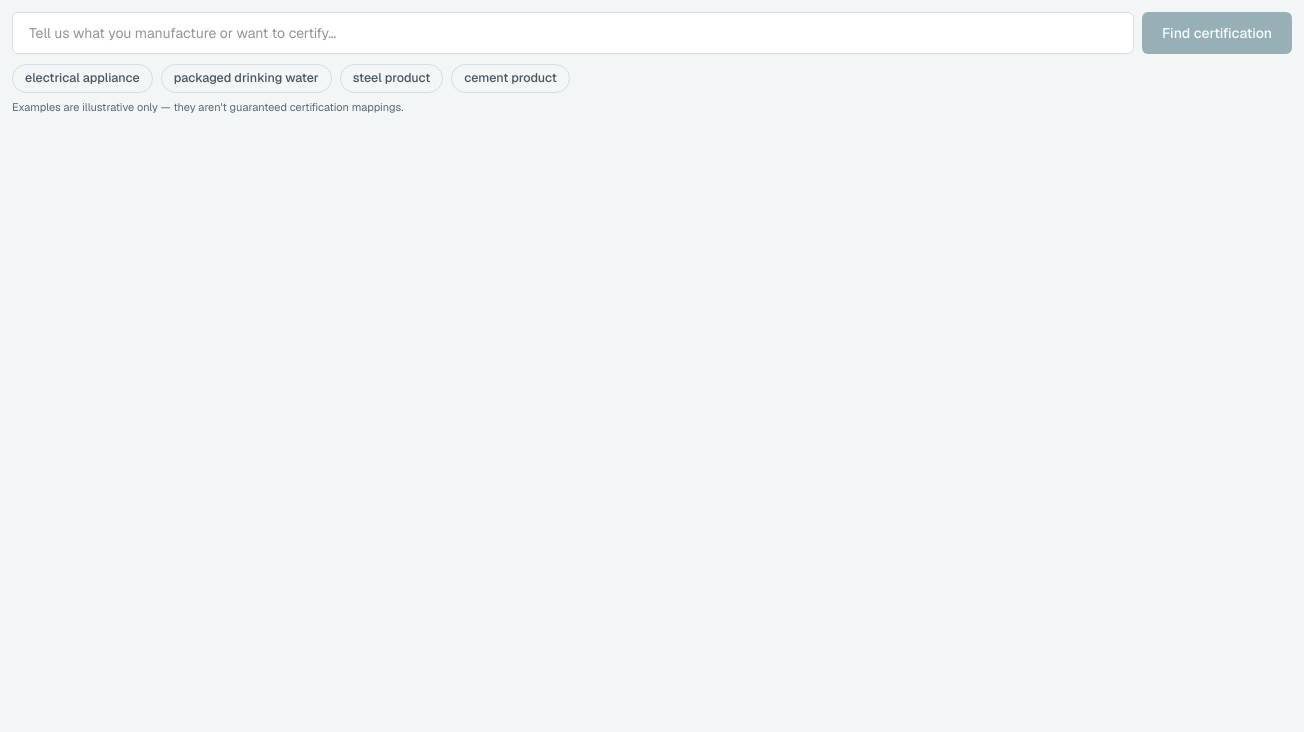
Test: CertificationDiscovery › insufficient evidence produces an honest abstention state, not a fabricated recommendation
In the field with placeholder "Tell us what you manufacture or want to certify…": (573, 33) [12,12,1134,54], type "unknown widget"
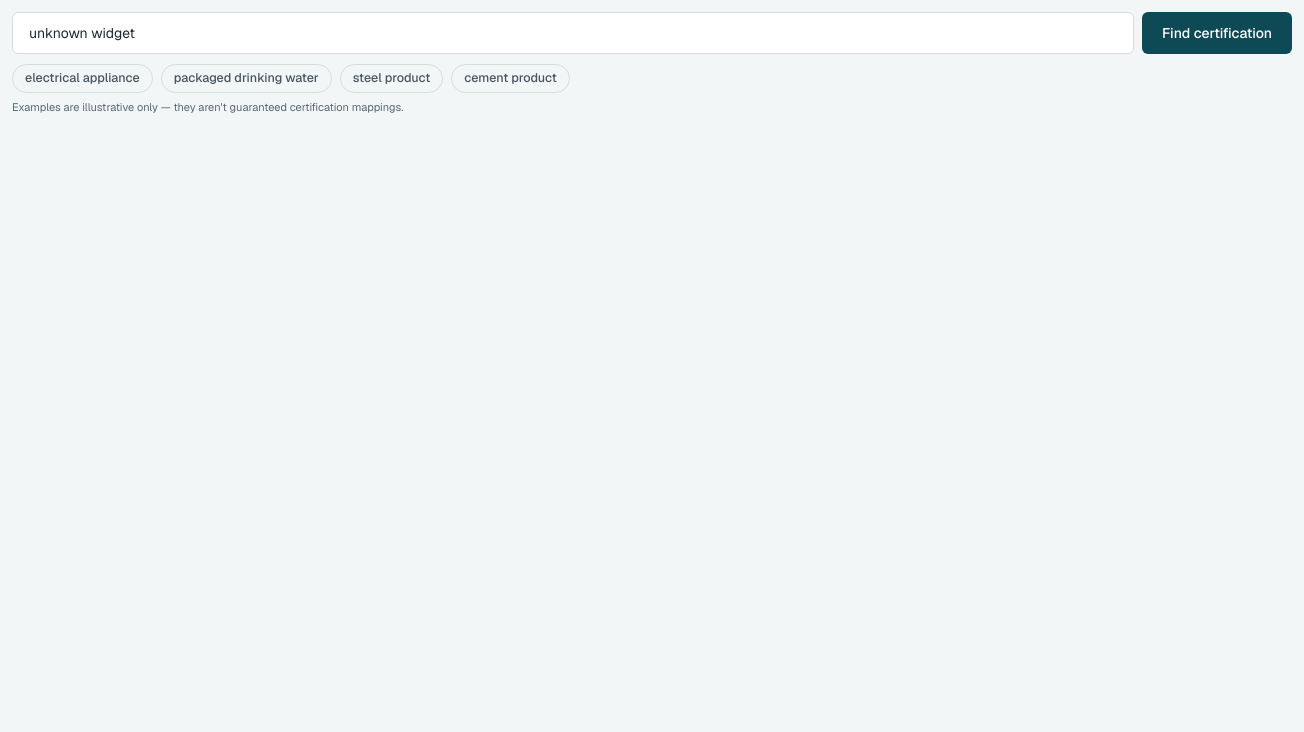
Click the button "Find certification": (1217, 33) [1142,12,1292,54]
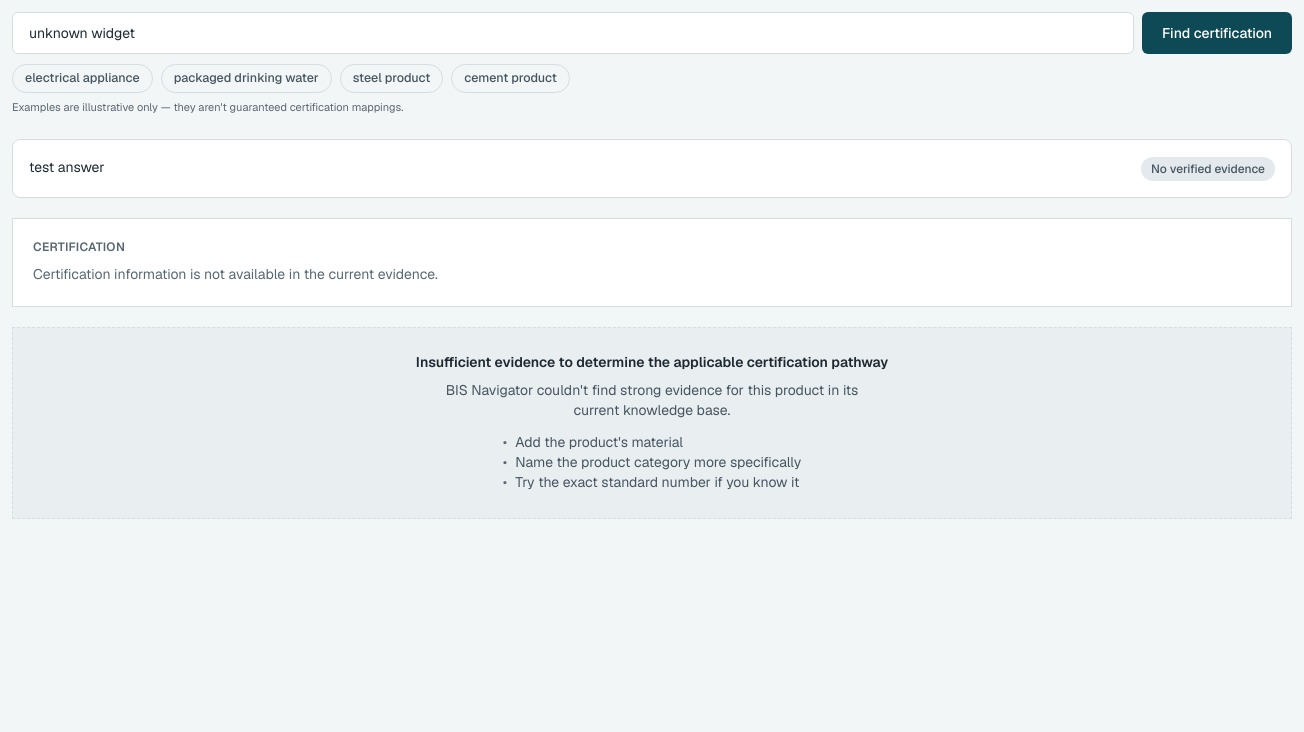
expect the heading "Insufficient evidence" is shown: met, box [416,353,888,371]
